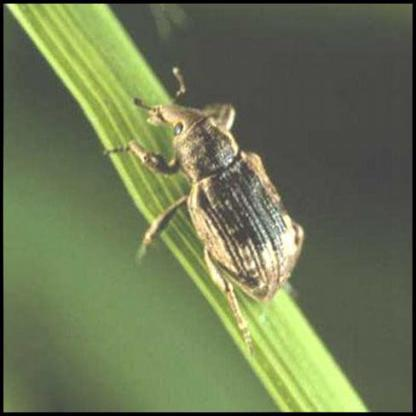rice-bug: (130, 80, 306, 318)
